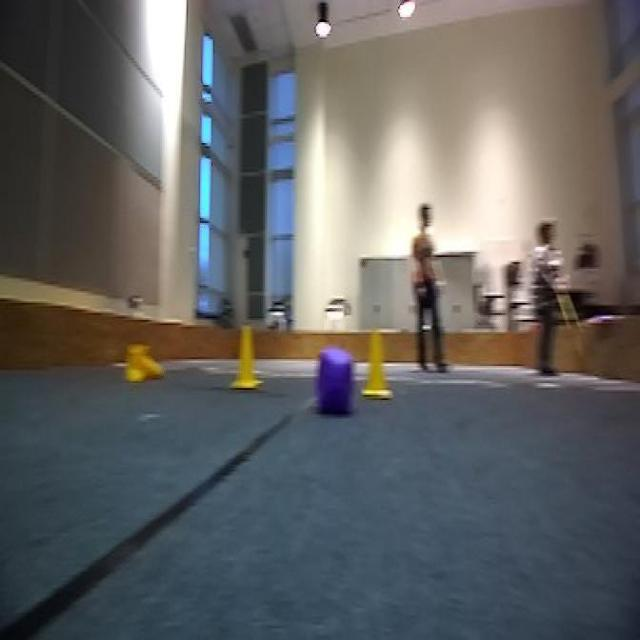frc_cone: (226, 323, 266, 388), (361, 330, 390, 400), (122, 339, 165, 386)
frc_cube: (317, 349, 356, 414)
